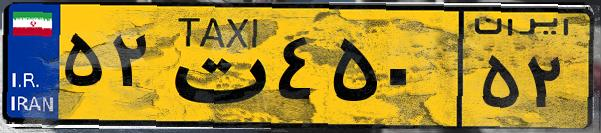0: (385, 28, 445, 110)
2: (525, 38, 570, 115), (110, 28, 158, 98)
4: (270, 28, 330, 110)
5: (330, 28, 385, 110), (57, 26, 110, 100), (475, 38, 525, 113)
ت: (158, 12, 270, 120)
